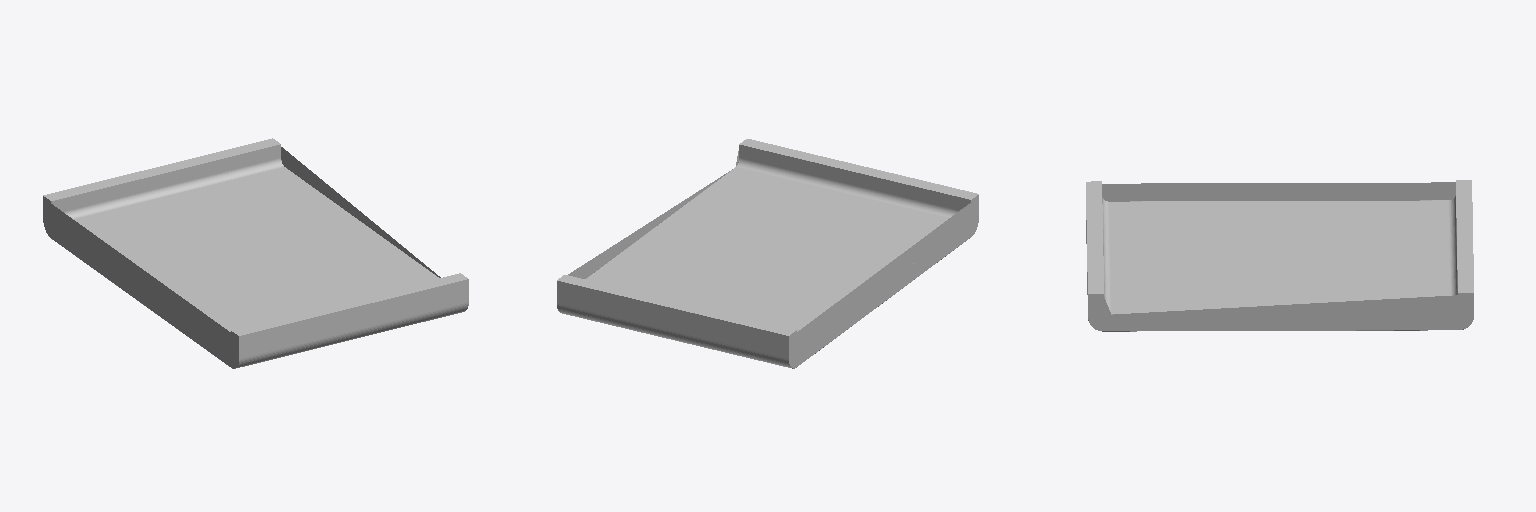
Rendered from table-p1.obj.
3 views of the same model, side by side, from view 1: azimuth 30°, elevation 25°; view 2: azimuth 150°, elevation 25°; view 3: azimuth 270°, elevation 25° (orthographic).
Visible parts, largest first — view 1: низ_стола; view 2: низ_стола; view 3: низ_стола.
Boxes of the visible parts, x1=… form: низ_стола: x1=43, y1=138, x2=468, y2=368; низ_стола: x1=557, y1=139, x2=978, y2=368; низ_стола: x1=1086, y1=180, x2=1473, y2=331.
Bounding box in the file's own units: 69.24 × 10.61 × 99.62.